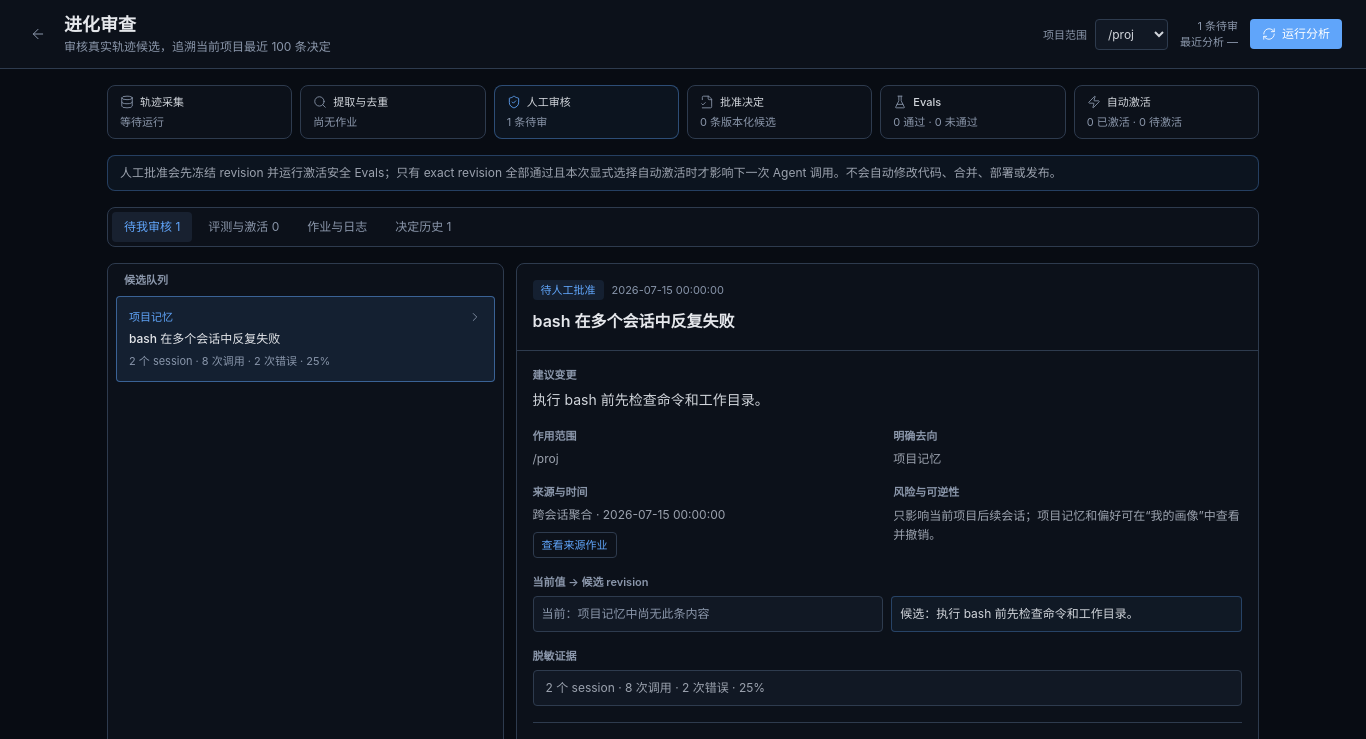
it: EvolutionWorkbenchPage › shows a log read failure instead of a fake empty ledger
The image size is (1366, 739).
What coordinates should you click on to do the following:
click the tab "作业与日志"
I would click on:
 (337, 227)
Its box is [295, 212, 379, 242].
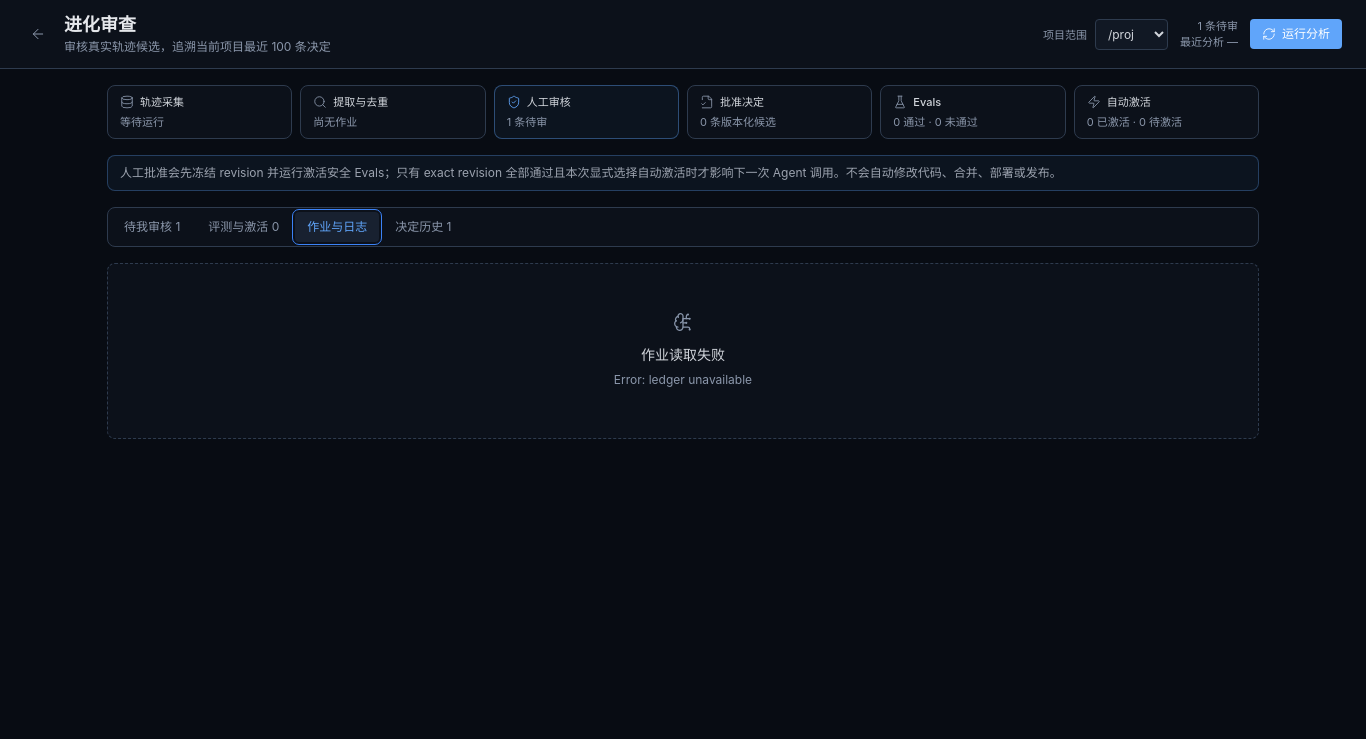
Check: the text "作业读取失败" is shown, box [641, 346, 725, 363]
Check: the text "Error: ledger unavailable" is shown, box [614, 372, 752, 387]
